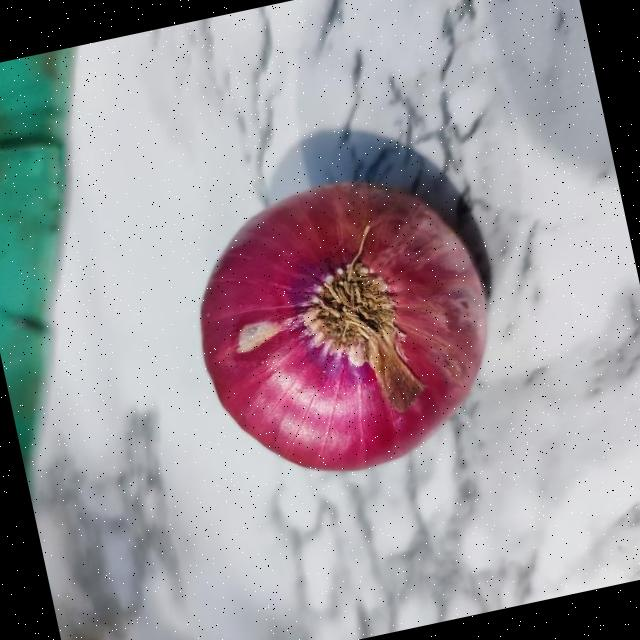Onion: (200, 180, 486, 469)
